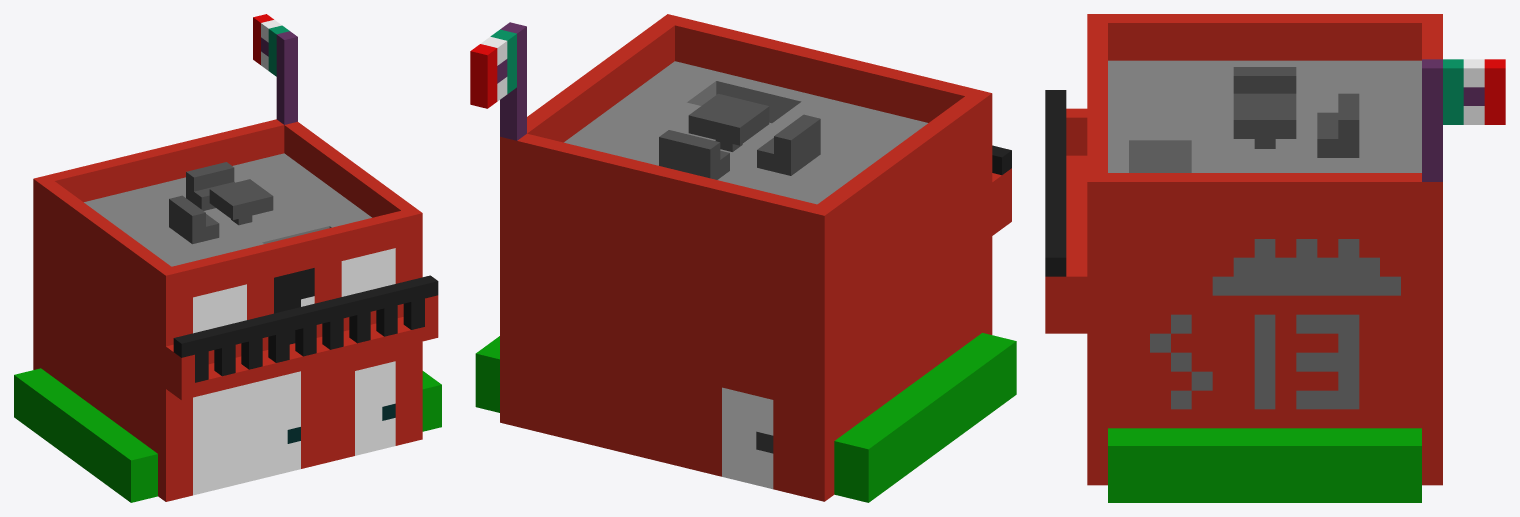
The model's file is Casa3.fbx.
3 views of the same model, side by side, from view 1: azimuth 30°, elevation 25°; view 2: azimuth 150°, elevation 25°; view 3: azimuth 270°, elevation 25° (orthographic). The views are drawn at different scales.
Visible parts, largest first — view 1: Cubo.1796; view 2: Cubo.1796; view 3: Cubo.1796.
Part boxes in pixels (x1,y1,x2,y2): Cubo.1796: [14, 14, 441, 502]; Cubo.1796: [470, 14, 1016, 502]; Cubo.1796: [1045, 14, 1505, 502].
Bounding box in the file's own units: 2300 × 2200 × 2200.
